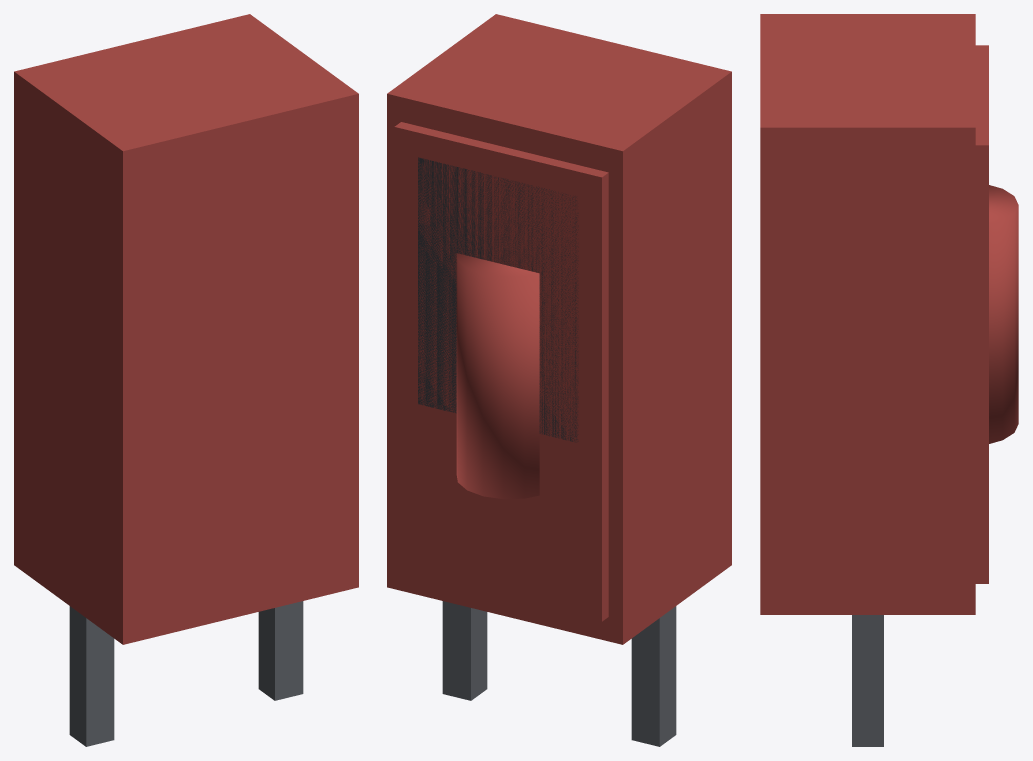
Rendered from prop_shoukaki_box.glb.
The picture shows the model from 3 angles, left to right: view 1: azimuth 30°, elevation 25°; view 2: azimuth 150°, elevation 25°; view 3: azimuth 270°, elevation 25°; orthographic projection.
Parts seen in each view (by area): view 1: shoukaki_box; view 2: shoukaki_box; view 3: shoukaki_box.
Part boxes in pixels (x1,y1,x2,y2): shoukaki_box: (14,14,358,746); shoukaki_box: (387,14,731,746); shoukaki_box: (760,14,1018,746).
Bounding box in the file's own units: 0.5 × 1.28 × 0.48.
